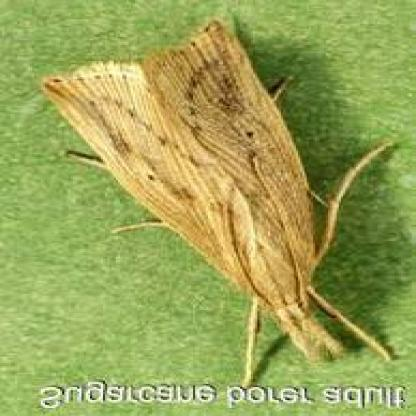stem-borer: (34, 15, 401, 374)
